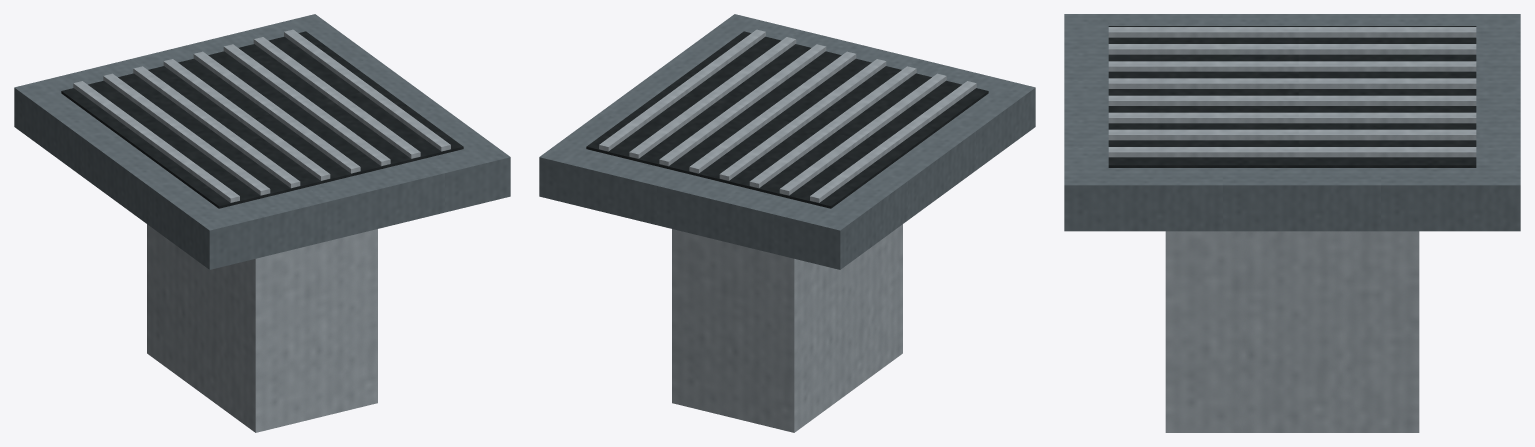
File: PZ_Scupper_Drain.glb
The picture shows the model from 3 angles, left to right: view 1: azimuth 30°, elevation 25°; view 2: azimuth 150°, elevation 25°; view 3: azimuth 270°, elevation 25°; orthographic projection. The views are drawn at different scales.
Visible parts, largest first — view 1: PZ_Scupper_Drain_FRAME, PZ_Scupper_Drain_OUTFLOW_STUB, PZ_Scupper_Drain_DRAIN_OPENING, PZ_Scupper_Drain_GRATE_BARS; view 2: PZ_Scupper_Drain_FRAME, PZ_Scupper_Drain_OUTFLOW_STUB, PZ_Scupper_Drain_DRAIN_OPENING, PZ_Scupper_Drain_GRATE_BARS; view 3: PZ_Scupper_Drain_OUTFLOW_STUB, PZ_Scupper_Drain_FRAME, PZ_Scupper_Drain_GRATE_BARS, PZ_Scupper_Drain_DRAIN_OPENING.
Part boxes in pixels (box(x1,y1,x2,y2)): PZ_Scupper_Drain_FRAME: box(14, 14, 510, 269); PZ_Scupper_Drain_OUTFLOW_STUB: box(147, 224, 377, 432); PZ_Scupper_Drain_DRAIN_OPENING: box(61, 31, 463, 208); PZ_Scupper_Drain_GRATE_BARS: box(73, 29, 450, 202); PZ_Scupper_Drain_FRAME: box(539, 14, 1035, 269); PZ_Scupper_Drain_OUTFLOW_STUB: box(672, 224, 902, 432); PZ_Scupper_Drain_DRAIN_OPENING: box(586, 31, 988, 208); PZ_Scupper_Drain_GRATE_BARS: box(599, 29, 976, 202); PZ_Scupper_Drain_OUTFLOW_STUB: box(1165, 231, 1419, 432); PZ_Scupper_Drain_FRAME: box(1064, 14, 1520, 231); PZ_Scupper_Drain_GRATE_BARS: box(1108, 27, 1476, 157); PZ_Scupper_Drain_DRAIN_OPENING: box(1108, 26, 1476, 167).
Size of the model in its own units: 0.64 by 0.537 by 0.72.
Materials: 3 (3 with a texture image).
